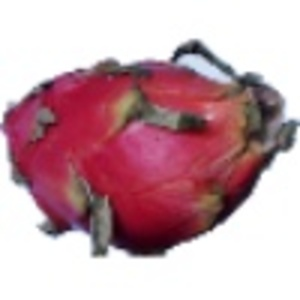pitaia: (1, 39, 300, 258)
